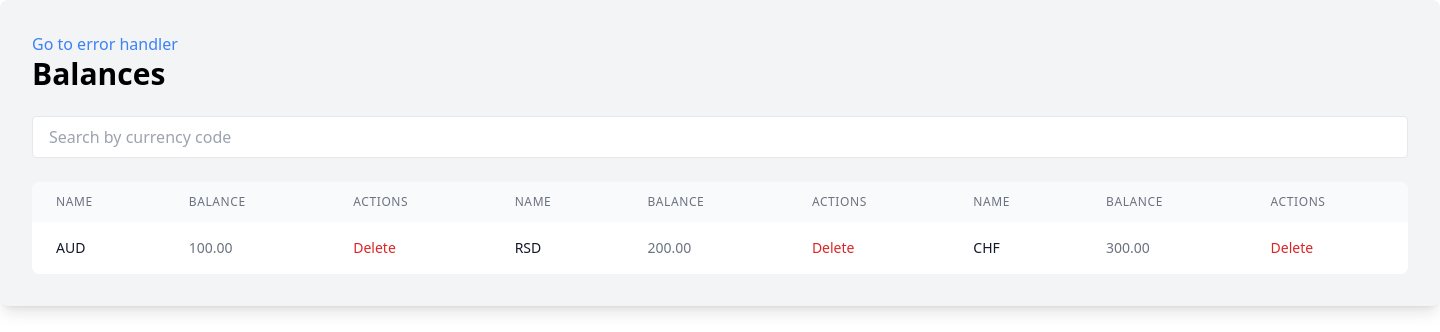
Test case: CurrencyTable › deletes a currency from the table
Click the 1st button "Delete" at (374, 248), box [353,238,396,258]
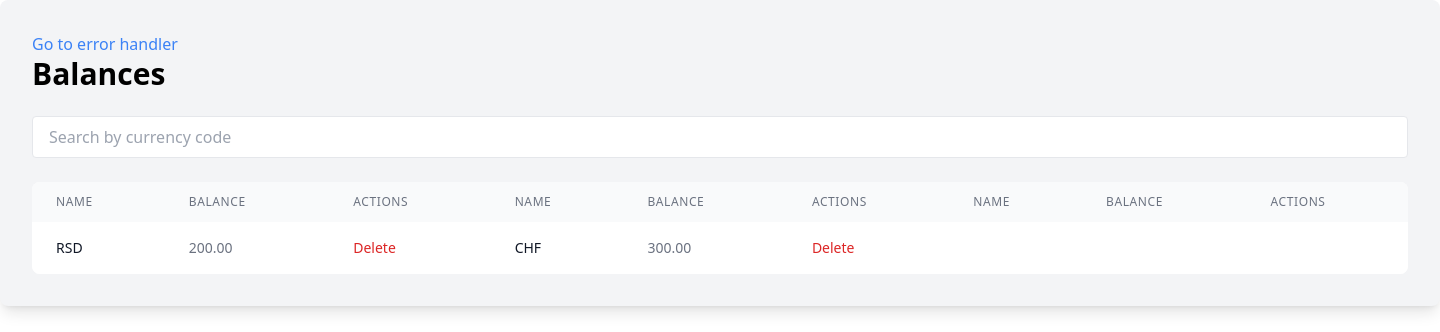
Result: the text "AUD" is gone
Result: the text "RSD" is shown at [32,222,165,274]
Result: the text "CHF" is shown at [491,222,623,274]
